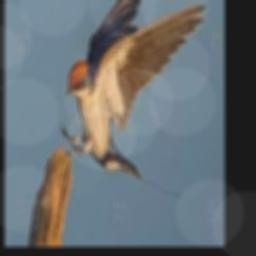Swallow: (60, 0, 210, 197)
